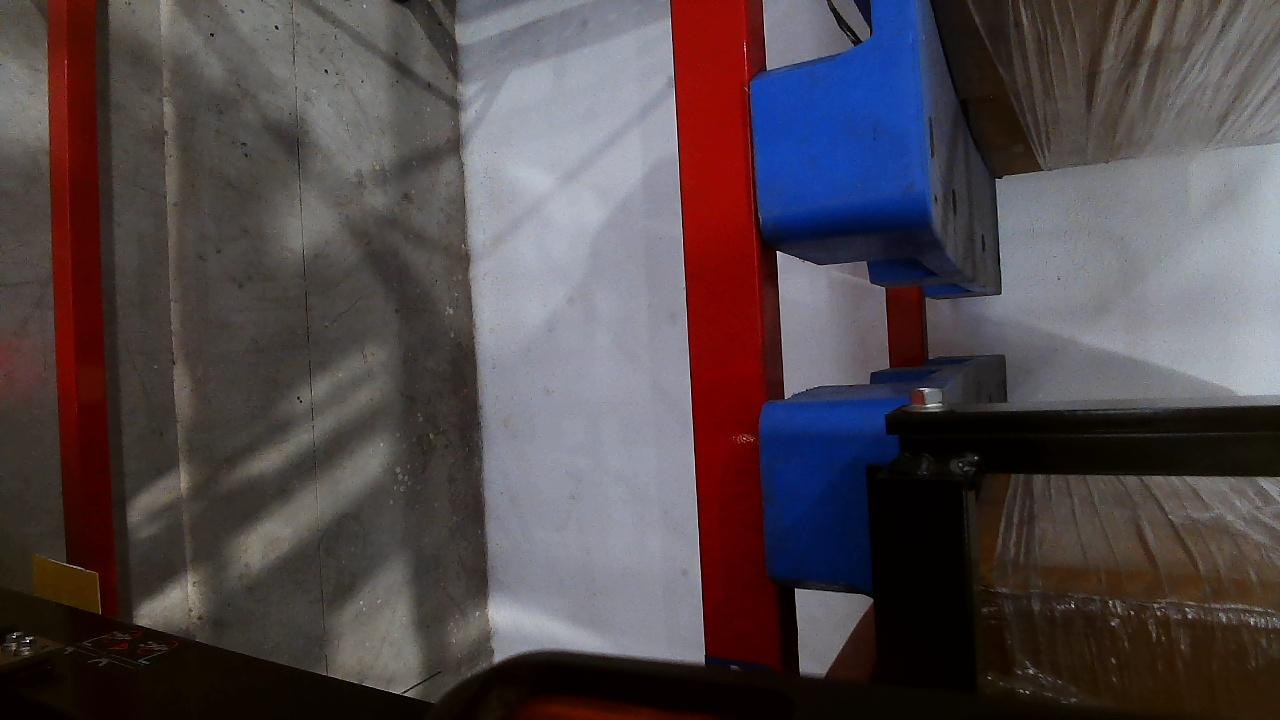h_rack: (668, 0, 780, 662), (48, 2, 125, 555)
orange_strip: (28, 556, 102, 613)
small_pallet: (748, 0, 929, 228)
